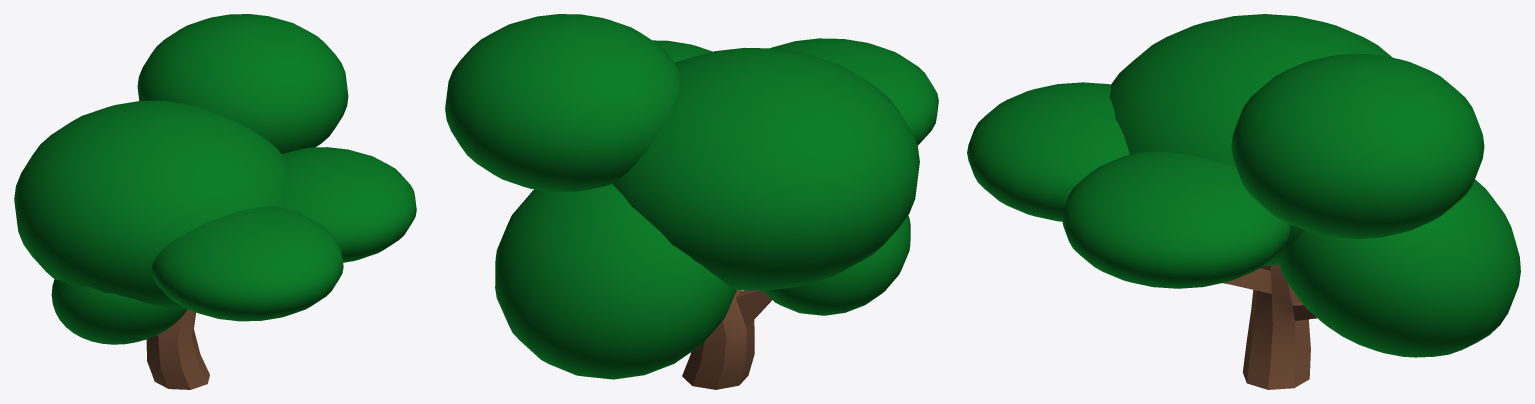
File: new_tree_6.fbx
The picture shows the model from 3 angles, left to right: view 1: azimuth 30°, elevation 25°; view 2: azimuth 150°, elevation 25°; view 3: azimuth 270°, elevation 25°; orthographic projection. The views are drawn at different scales.
Parts seen in each view (by area): view 1: pSphere8; view 2: pSphere8; view 3: pSphere8.
Part boxes in pixels (<box>): pSphere8: <box>14,14,416,389</box>; pSphere8: <box>445,14,938,389</box>; pSphere8: <box>967,14,1520,389</box>.
Bounding box in the file's own units: 61.34 × 51.91 × 72.3.
